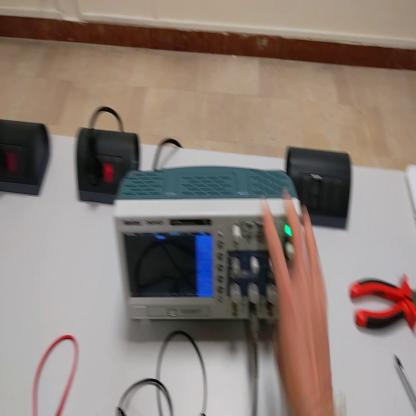hand: (262, 187, 334, 412)
oscilloscope: (107, 162, 295, 327)
pliers: (350, 275, 416, 333)
screwdriver-: (396, 355, 416, 402)
socket: (75, 125, 140, 205), (2, 120, 52, 198)
